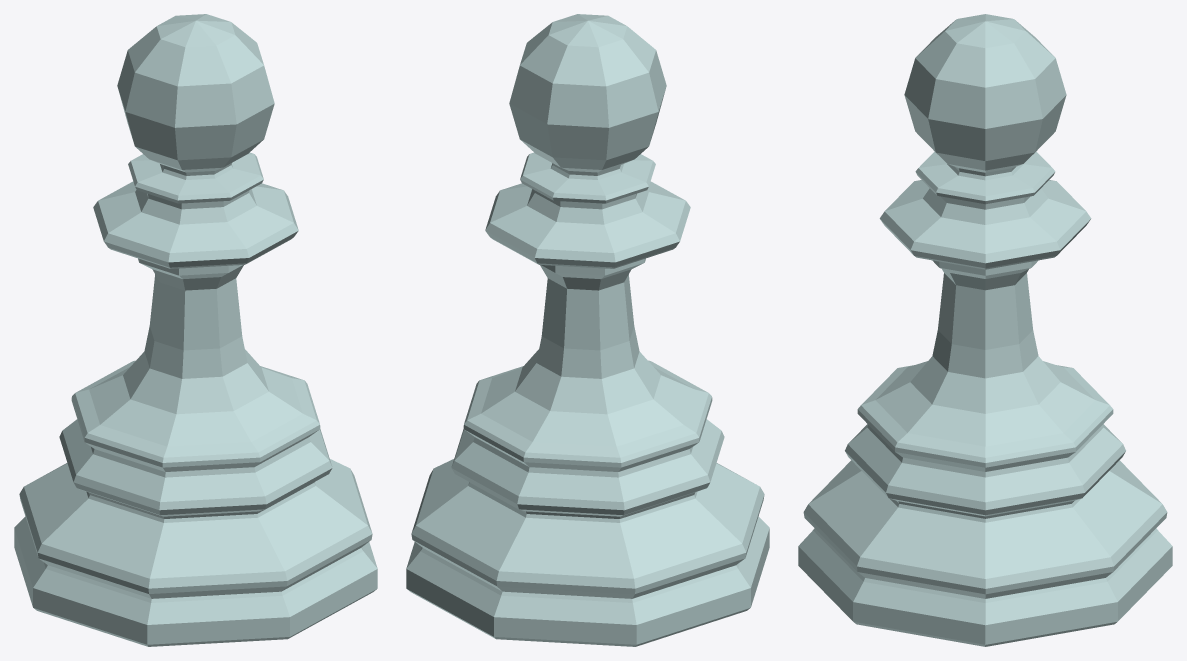
File: white-pawn.obj
3 renders of one model, left to right at view 1: azimuth 30°, elevation 25°; view 2: azimuth 150°, elevation 25°; view 3: azimuth 270°, elevation 25°, orthographic.
Parts seen in each view (by area): view 1: White_Pawn_01_White_Square_0_White_Pawn_01_White_Square_0.001; view 2: White_Pawn_01_White_Square_0_White_Pawn_01_White_Square_0.001; view 3: White_Pawn_01_White_Square_0_White_Pawn_01_White_Square_0.001.
Boxes of the visible parts, x1=… form: White_Pawn_01_White_Square_0_White_Pawn_01_White_Square_0.001: x1=14, y1=14, x2=377, y2=646; White_Pawn_01_White_Square_0_White_Pawn_01_White_Square_0.001: x1=406, y1=14, x2=769, y2=646; White_Pawn_01_White_Square_0_White_Pawn_01_White_Square_0.001: x1=798, y1=14, x2=1172, y2=646.
Bounding box in the file's own units: 3 × 4.85 × 3.
